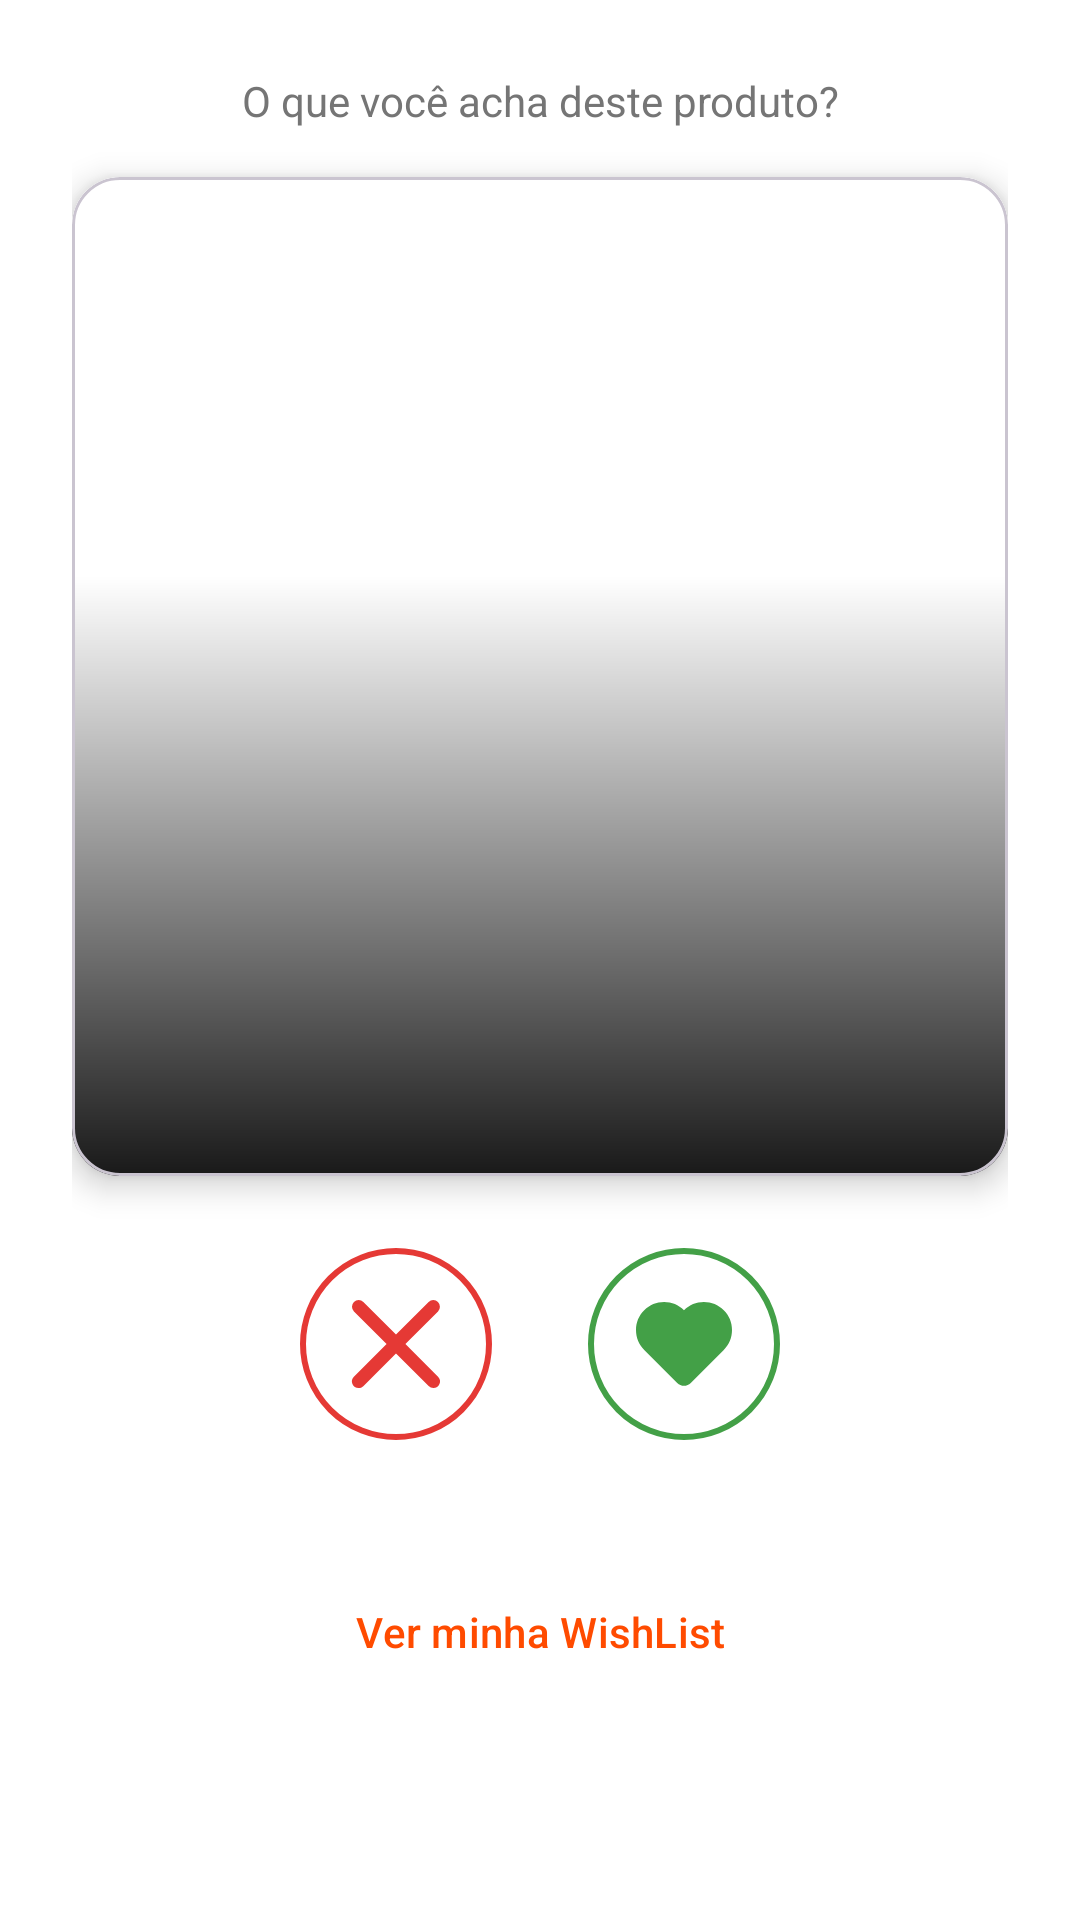

Icon bounding boxes for this 1080px x 1920px phone screenshot, format box(x1, y1, x2, y2):
dislike: box(352, 1300, 440, 1388)
like: box(636, 1302, 732, 1386)
